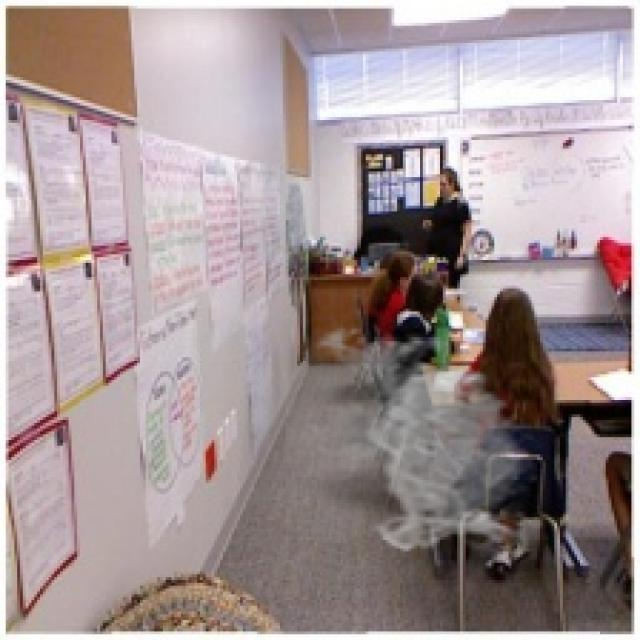Smoke: (286, 320, 538, 557)
